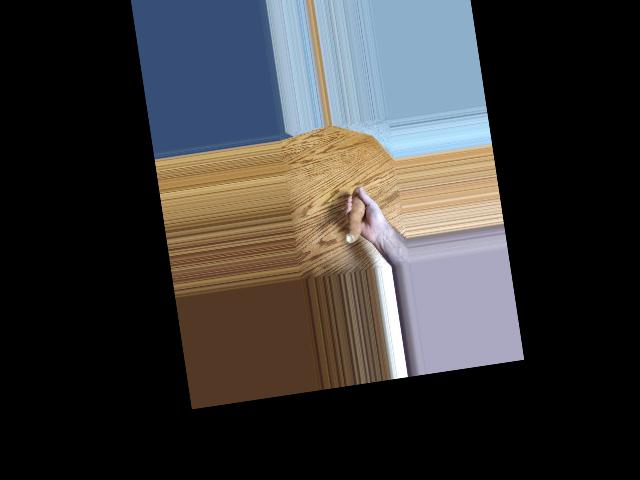sweet_potato: (338, 183, 371, 247)
